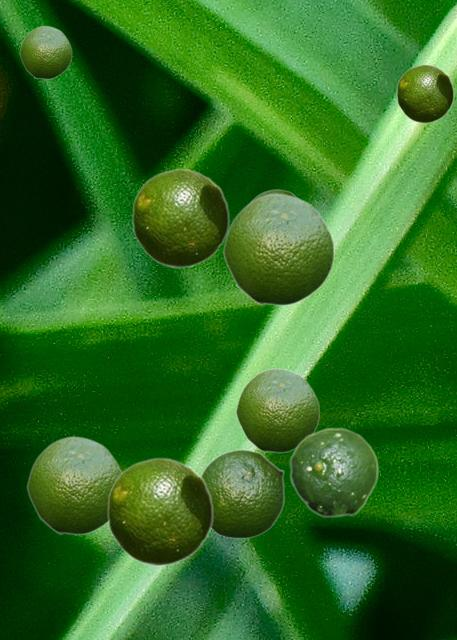calamansi: (222, 192, 334, 305), (106, 457, 213, 565), (131, 168, 229, 267), (26, 435, 122, 534), (289, 427, 378, 517), (201, 449, 284, 538), (235, 367, 319, 452), (396, 64, 453, 122), (19, 25, 71, 78), (252, 189, 295, 199)
